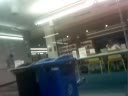window: (13, 49, 73, 96), (78, 61, 105, 77), (0, 63, 5, 71)
